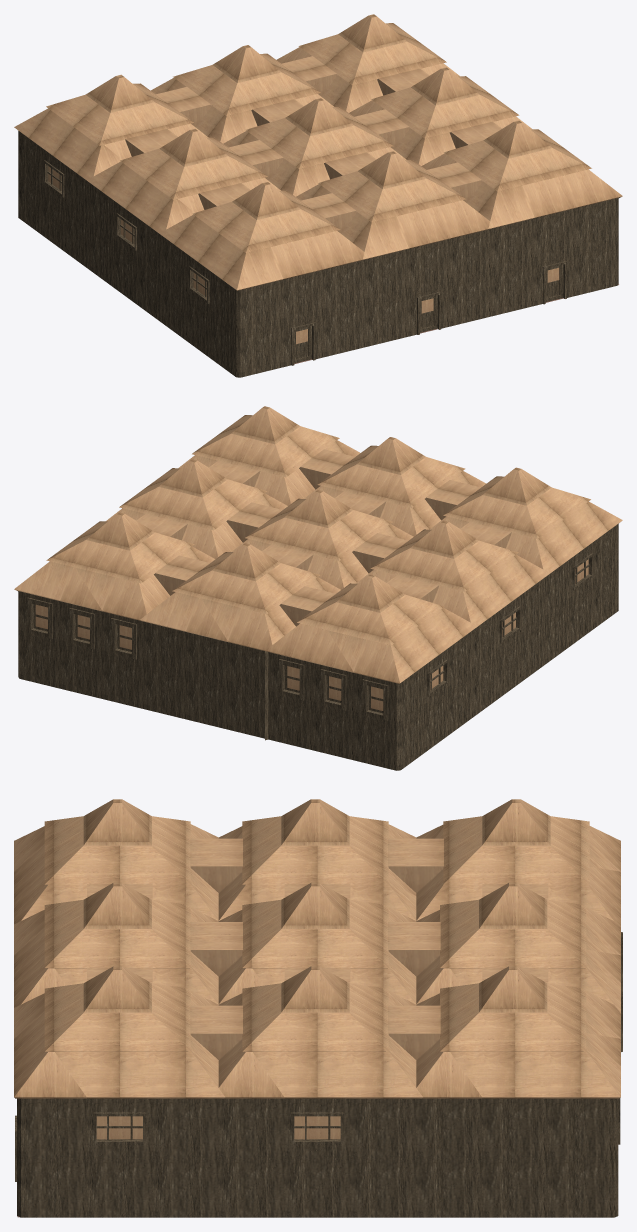
The model's file is House-9-2.obj.
3 renders of one model, top to bottom at view 1: azimuth 30°, elevation 25°; view 2: azimuth 150°, elevation 25°; view 3: azimuth 270°, elevation 25°, orthographic. The views are drawn at different scales.
Visible parts, largest first — view 1: mergedBlocks; view 2: mergedBlocks; view 3: mergedBlocks.
Boxes of the visible parts, bbox=[...] form: mergedBlocks: bbox=[14, 14, 622, 377]; mergedBlocks: bbox=[14, 406, 622, 770]; mergedBlocks: bbox=[14, 799, 622, 1217].
Size of the model in its own units: 9.21 by 3.46 by 9.24.
Materials: 12 (11 with a texture image).
